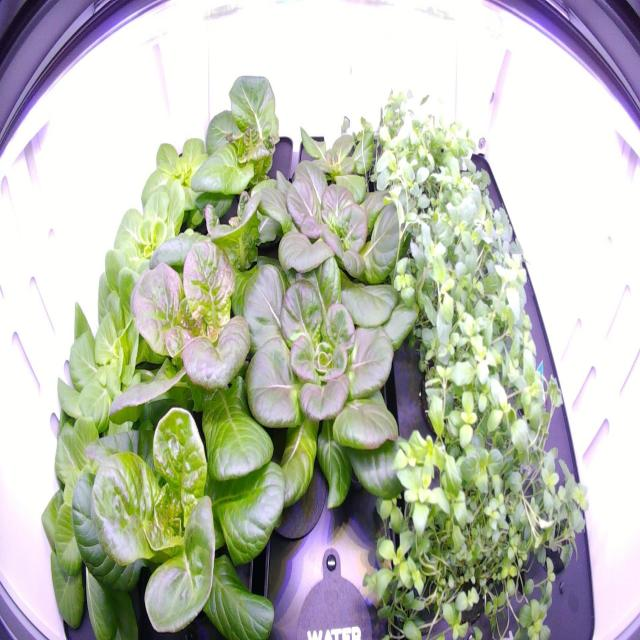young: (215, 227, 428, 530), (67, 354, 290, 638), (99, 201, 288, 492), (31, 393, 207, 636), (44, 256, 205, 464), (248, 148, 404, 308), (182, 58, 294, 247), (88, 179, 209, 352), (278, 115, 380, 221), (130, 126, 220, 246)
